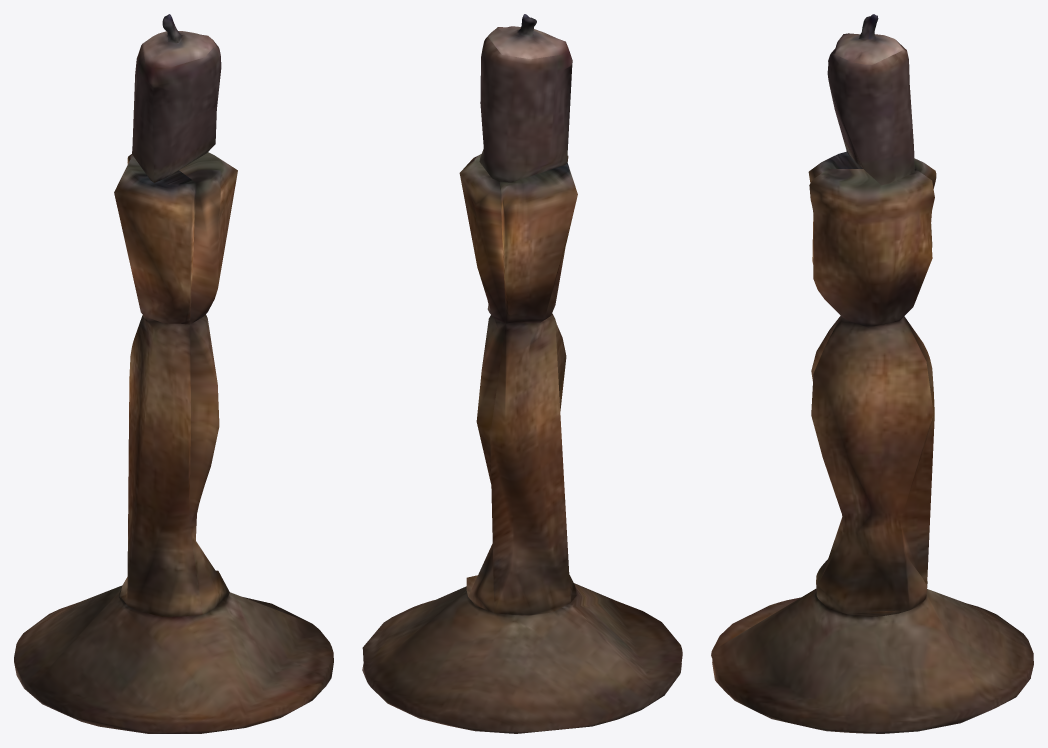
The model's file is wooden_candlestick.glb.
3 renders of one model, left to right at view 1: azimuth 30°, elevation 25°; view 2: azimuth 150°, elevation 25°; view 3: azimuth 270°, elevation 25°, orthographic.
Visible parts, largest first — view 1: wooden_candlestick; view 2: wooden_candlestick; view 3: wooden_candlestick.
Boxes of the visible parts, x1,y1,x2,y2 form: wooden_candlestick: (14, 14, 333, 733); wooden_candlestick: (362, 14, 682, 733); wooden_candlestick: (711, 14, 1033, 733).
Size of the model in its own units: 0.0971 by 0.2196 by 0.0986.
1 material, 1 textured.
